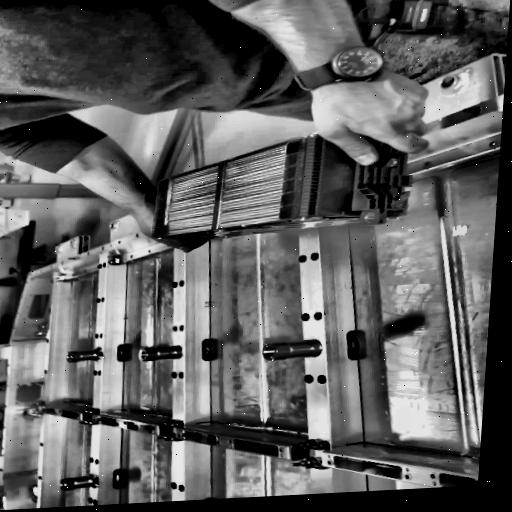battery_module: (140, 111, 420, 243)
